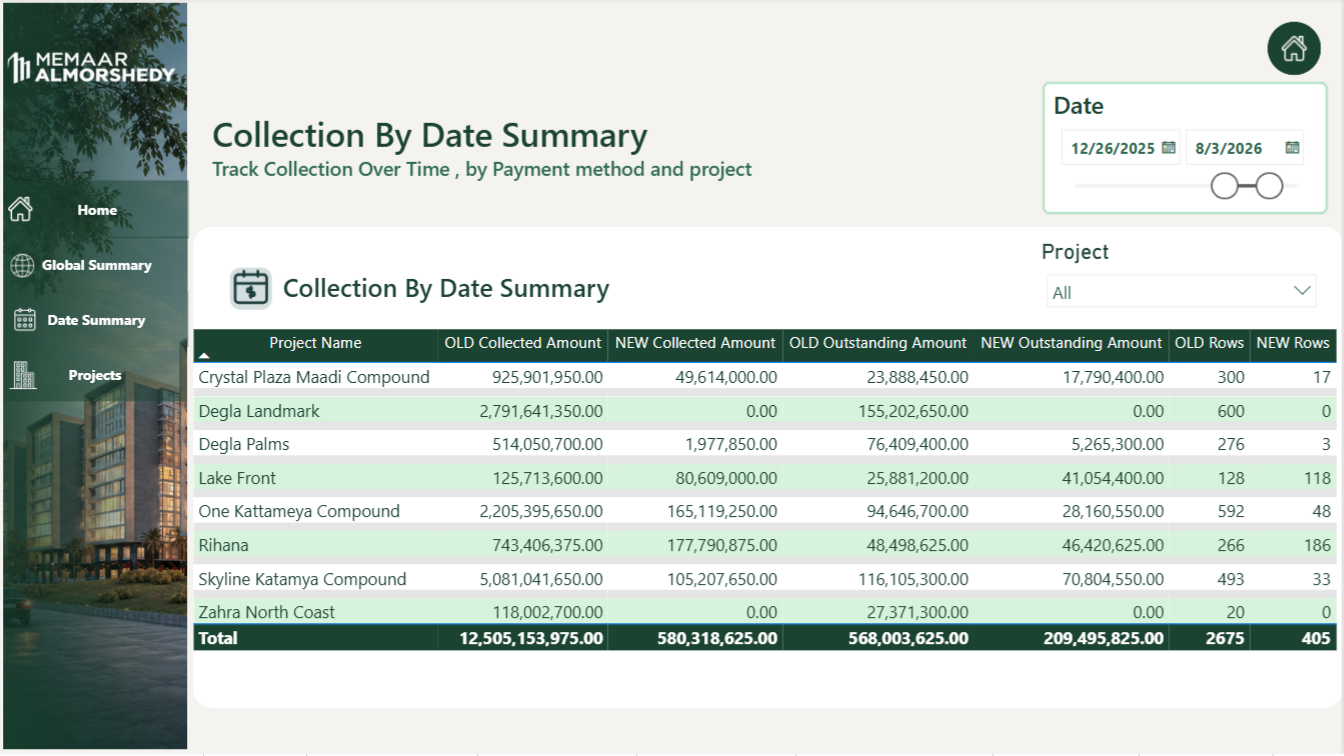

This screenshot's page, from the dashboard's own definition file:
{"tool":"powerbi","page":{"name":"Collection By Date Summary","canvas":[1280,720],"ordinal":2},"visuals":[{"type":"image","box":[0,0,185.2,720.4],"z":0},{"type":"group","id":"g1","title":"Group 1","box":[179.8,218.2,1100.7,458.3],"z":0,"group":"g4"},{"type":"shape","box":[185.4,218.2,1095,458.3],"z":0,"group":"g1"},{"type":"slicer","title":"Date","fields":{"Values":["Dim_Date.Date"]},"box":[993.5,79.6,271.7,126.2],"z":1000},{"type":"slicer","title":"Project","fields":{"Values":["Dim_Project.Project Name"]},"box":[988.4,230.1,277.2,76.8],"z":1000,"group":"g4"},{"type":"tableEx","fields":{"Values":["Dim_Project.Project Name","Fact_Installment.OLD Collected Amount","Fact_Installment.NEW Collected Amount","Fact_Installment.OLD Outstanding Amount","Fact_Installment.NEW Outstanding Amount","Fact_Installment.OLD Rows","Fact_Installment.NEW Rows"]},"box":[179.8,310.9,1100.5,345],"z":1000,"group":"g1"},{"type":"image","box":[0,0,175.6,127.6],"z":2000},{"type":"textbox","box":[260.1,255.4,363.6,52.1],"z":2000,"group":"g1"},{"type":"actionButton","title":"Back to Home","box":[1208.8,22.9,51.2,51.2],"z":3000},{"type":"actionButton","box":[216.2,244.4,48,65.9],"z":3000,"group":"g1"},{"type":"textbox","box":[199,102.9,547.5,79.6],"z":4000},{"type":"group","id":"g2","title":"Group 9","box":[4.9,173.4,176.2,54.9],"z":6000},{"type":"group","id":"g3","title":"Group 10","box":[6.7,227.8,173.8,52.6],"z":7000},{"type":"actionButton","title":"EXPLORE PROJECTS","box":[5.4,280.3,175.2,52.6],"z":8000},{"type":"image","box":[6.7,289.7,36.4,33.7],"z":9000},{"type":"actionButton","title":"EXPLORE PROJECTS","box":[4.8,332.1,175,52.4],"z":10000},{"type":"actionButton","title":"EXPLORE PROJECTS","box":[6.9,173.4,174.3,54.9],"z":11000,"group":"g2"},{"type":"actionButton","title":"EXPLORE PROJECTS","box":[6.7,227.8,173.8,52.6],"z":11000,"group":"g3"},{"type":"image","box":[5.4,338.3,36.4,43.1],"z":11000},{"type":"image","box":[4.9,174.2,32.9,52.1],"z":12002,"group":"g2"},{"type":"group","id":"g4","title":"Group 2","box":[179.8,218.2,1100.5,458.3],"z":12002},{"type":"image","box":[6.7,238.6,32.1,33.7],"z":14000,"group":"g3"}]}

Visuals, with their boxes in screenshot pixels (x1, y1, x2, y2), scaled from the page's 1280x720 canvas onto the 1344x756 screenshot:
image: crop(0, 0, 194, 755)
"Group 1" group: crop(189, 229, 1343, 710)
shape: crop(195, 229, 1343, 710)
"Date" slicer: crop(1043, 84, 1328, 216)
"Project" slicer: crop(1038, 242, 1329, 322)
tableEx - Dim_Project.Project Name x Fact_Installment.OLD Collected Amount: crop(189, 326, 1343, 689)
image: crop(0, 0, 184, 134)
textbox: crop(273, 268, 655, 323)
"Back to Home" actionButton: crop(1269, 24, 1323, 78)
actionButton: crop(227, 257, 277, 326)
textbox: crop(209, 108, 784, 192)
"Group 9" group: crop(5, 182, 190, 240)
"Group 10" group: crop(7, 239, 190, 294)
"EXPLORE PROJECTS" actionButton: crop(6, 294, 190, 350)
image: crop(7, 304, 45, 340)
"EXPLORE PROJECTS" actionButton: crop(5, 349, 189, 404)
"EXPLORE PROJECTS" actionButton: crop(7, 182, 190, 240)
"EXPLORE PROJECTS" actionButton: crop(7, 239, 190, 294)
image: crop(6, 355, 44, 400)
image: crop(5, 183, 40, 238)
"Group 2" group: crop(189, 229, 1343, 710)
image: crop(7, 251, 41, 286)
